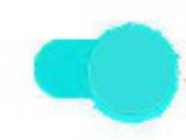Switch: (1, 1, 185, 139)
